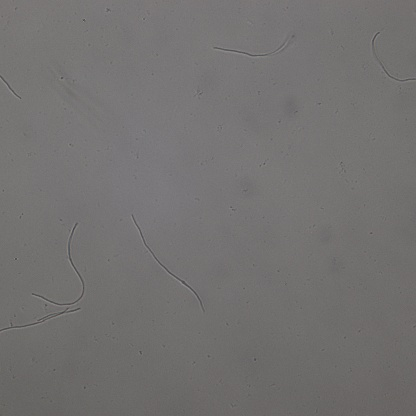Sensitive: (133, 214, 203, 312), (32, 221, 85, 306), (371, 31, 416, 83), (1, 308, 82, 331), (213, 36, 292, 57), (1, 76, 20, 98)
